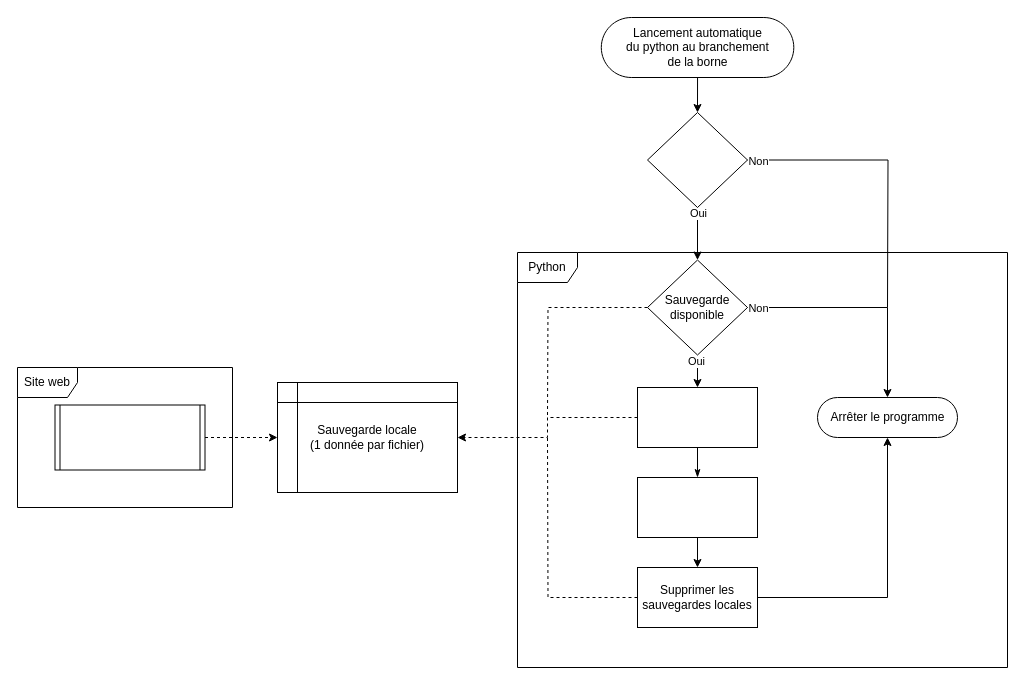
The diagram is 1025 pixels wide and 685 high, and some of its shapes have lost their labels. Here are the shapes that lost their labels. From the top down, the centre of each, then its label:
(x=697, y=160): Internet disponible
(x=129, y=437): Validation formulaire
(x=697, y=417): Récupèrer les sauvegardes locales
(x=697, y=507): Envoyer le mail
